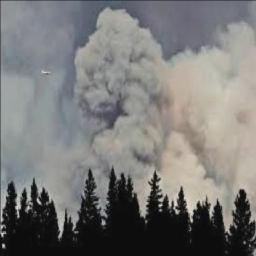Heavy smoke: (64, 5, 186, 196)
